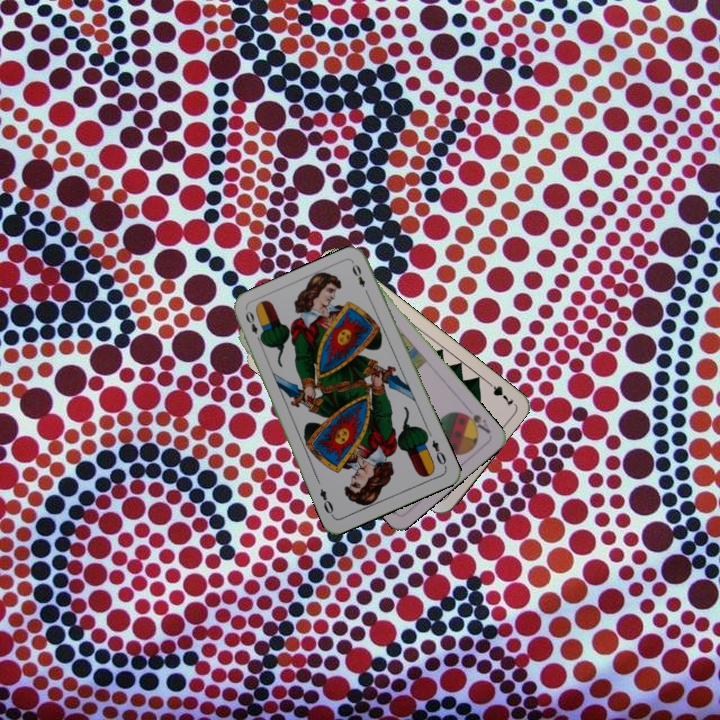EO: (241, 307, 265, 345), (428, 436, 449, 470)
G7: (482, 376, 517, 409)
SA: (458, 403, 493, 436)
